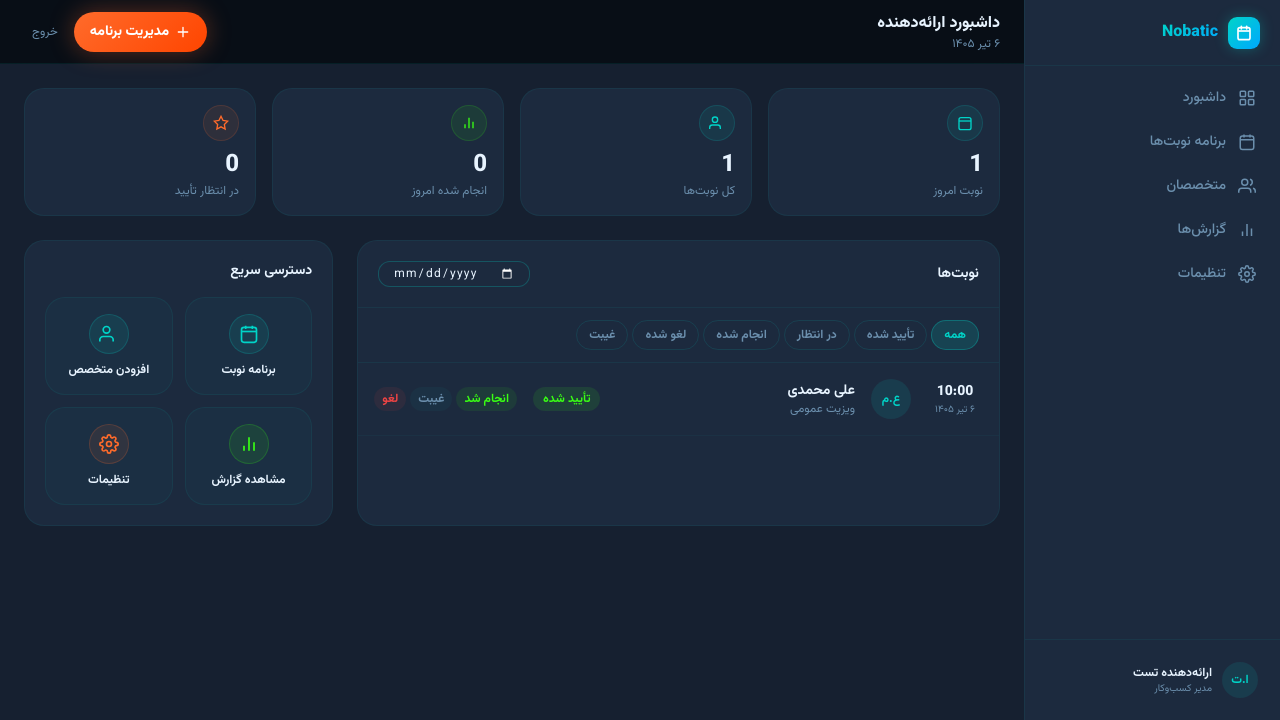
Test: confirm dialog › clicking انجام شد opens confirm dialog
Click the button "انجام شد" at (487, 399), box x1=456 y1=387 x2=517 y2=411
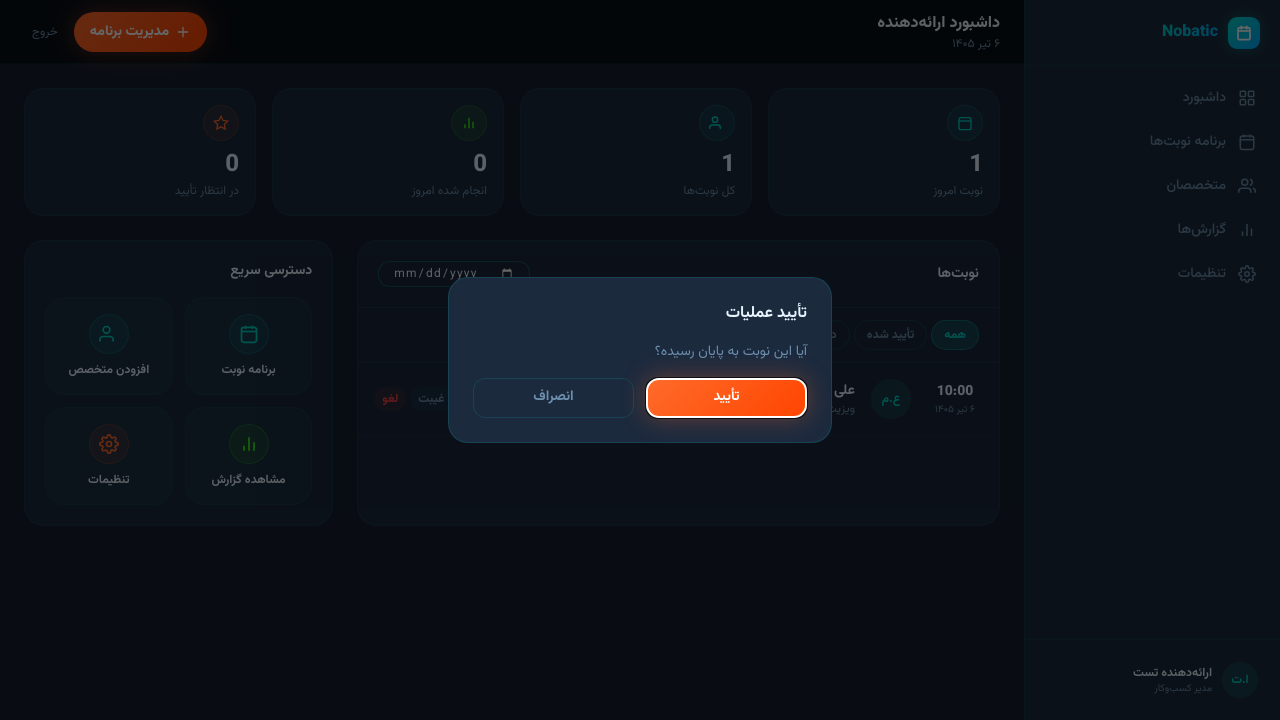
Expected: the dialog is shown
Expected: the text "آیا این نوبت به پایان رسیده؟" is shown, x1=655 y1=341 x2=807 y2=363
